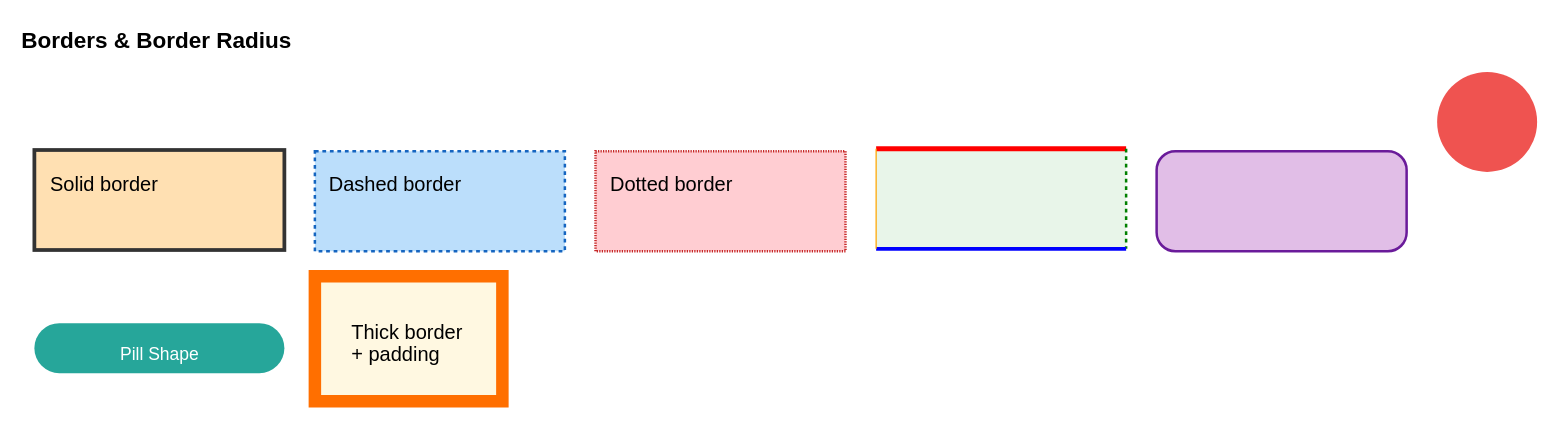
Some shapes in this 1559 by 429 pixel diagram are drawn without their labels. Here are the shapes that lost their labels. From the top down, the centre of each, then its label:
At point (1001, 198): "Mixed borders".
At point (1281, 200): "Rounded corners".
